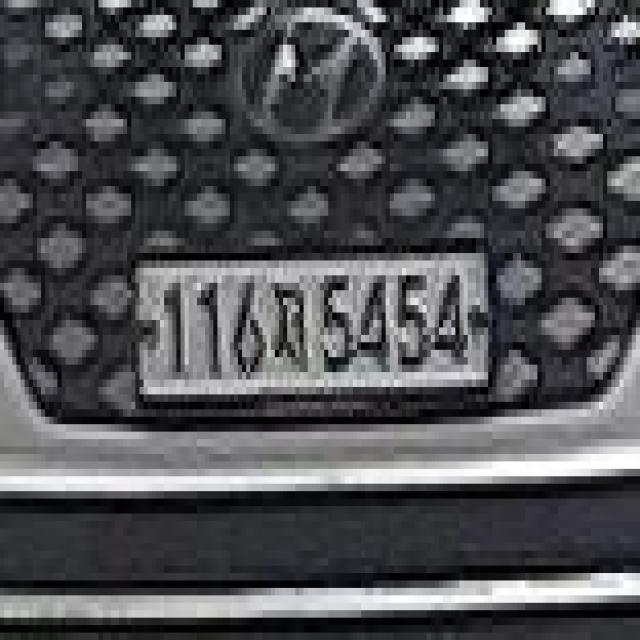illegal_plate: (132, 245, 498, 422)
